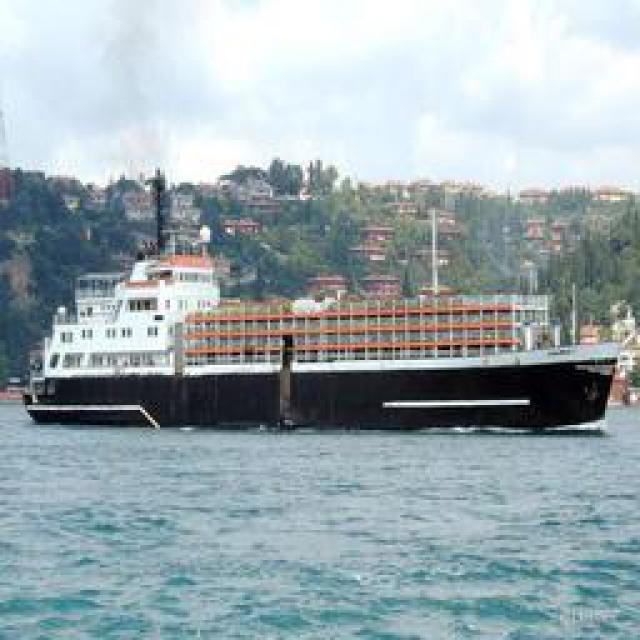Ship: (15, 247, 628, 435)
